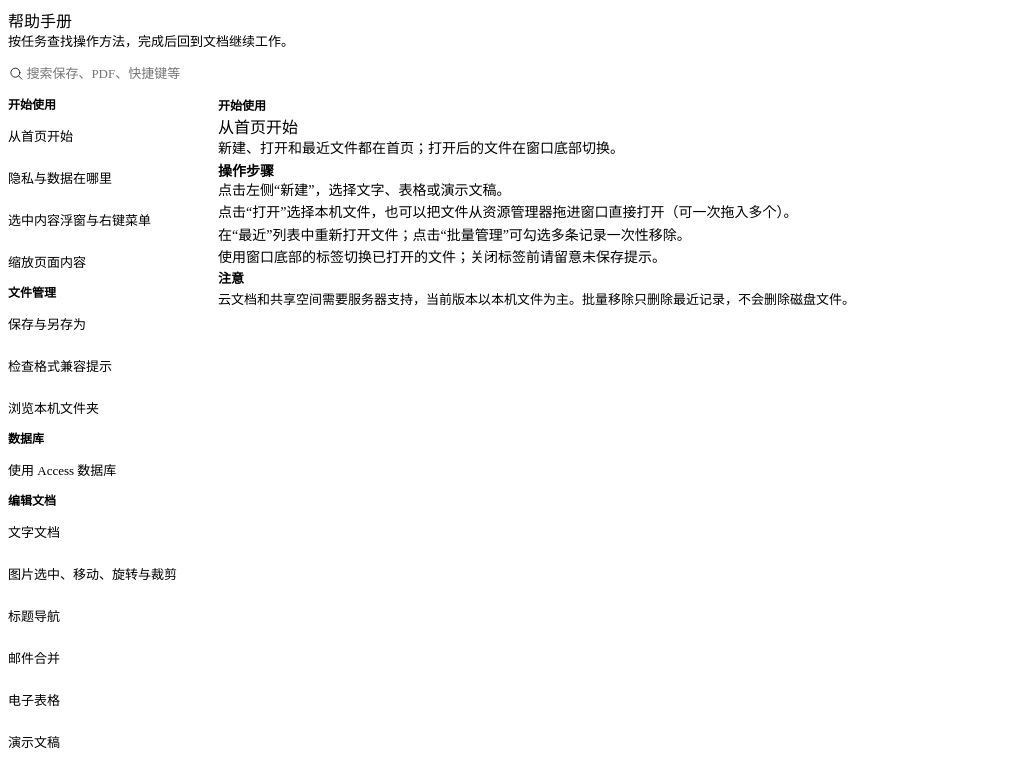
帮助手册 › 说明选中内容浮窗与右键菜单的可用动作
The image size is (1024, 766).
Click the button "选中内容浮窗与右键菜单": (108, 220) [8,200,208,240]
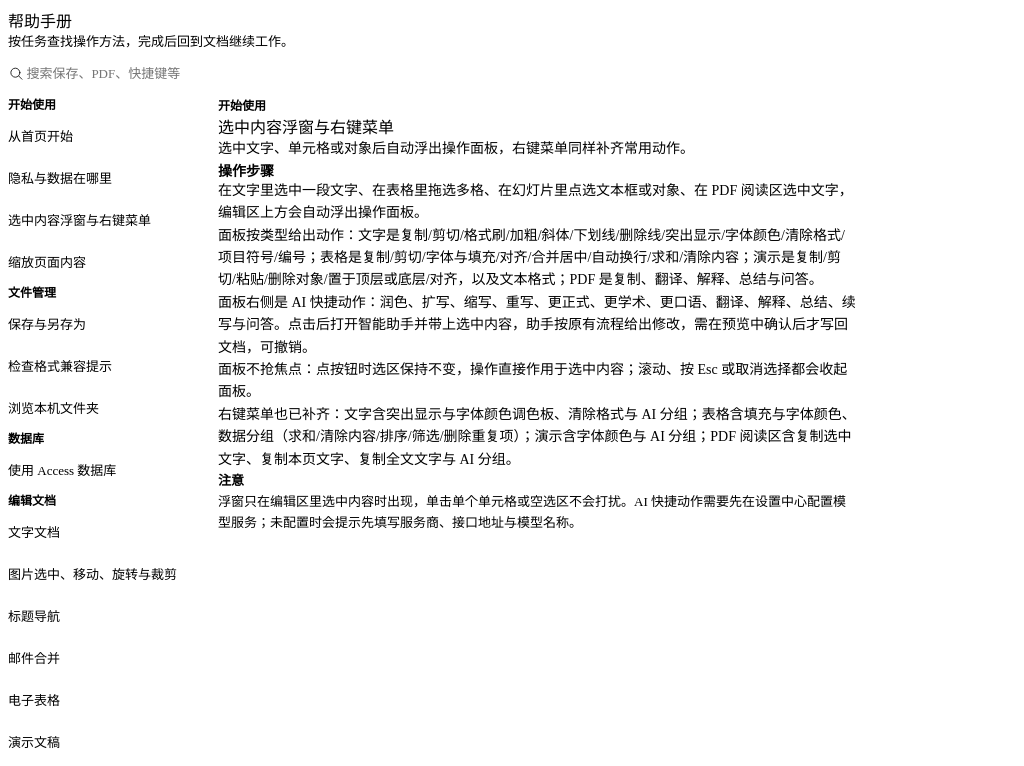
Check: the list item "编辑区上方会自动浮出操作面板" is shown, box [218,183,853,220]
Check: the list item "面板不抢焦点：点按钮时选区保持不变，操作直接作用于选中内容；滚动、按 Esc 或取消选择都会收起面板。" is shown, box [218,359,858,404]
Check: the list item "需在预览中确认后才写回文档" is shown, box [218,295,856,355]
